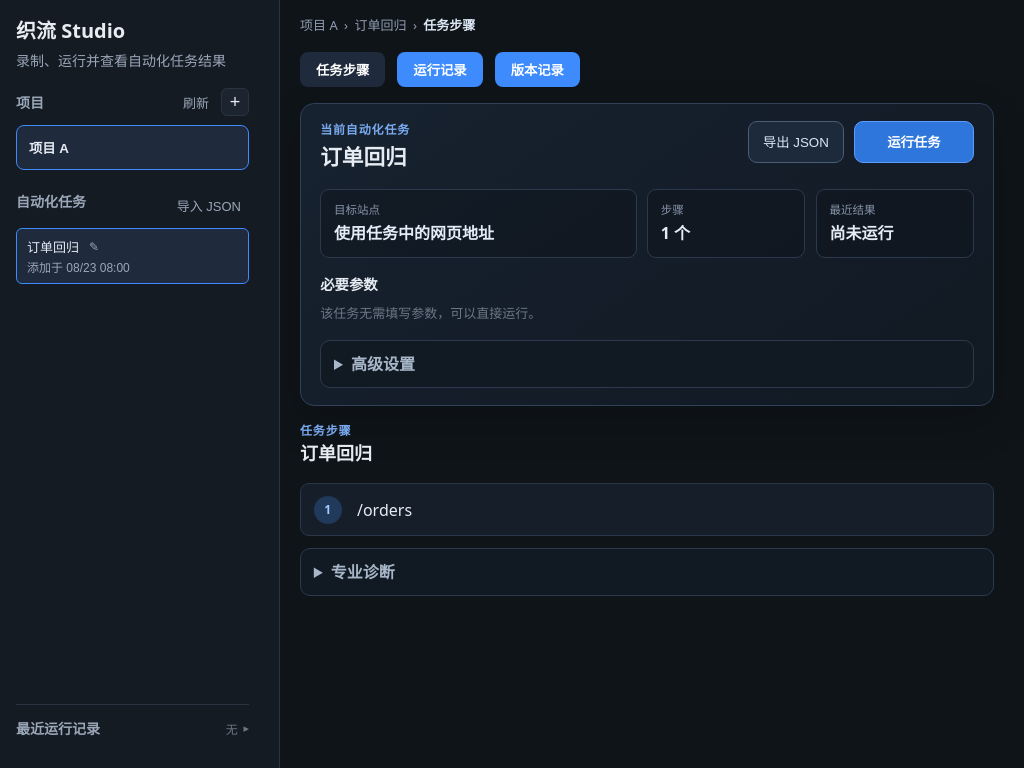
Scenario: App Flow 导入导出 › 导入成功后刷新列表、选中新副本并按真实 warning 数提醒补齐输入
Step 1. Click the button "导入 JSON" → x=209, y=205, box [169,190,249,220]
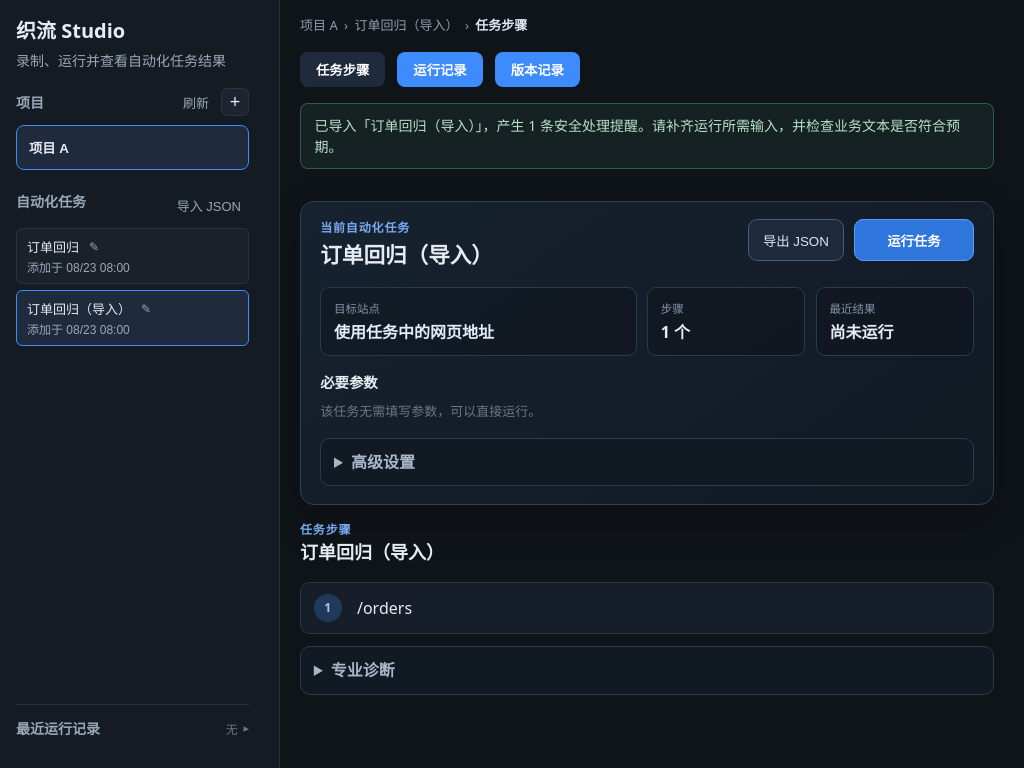
Expected: the text "订单回归（导入）" is shown, [27,299,131,318]
Expected: the button with class "flow-list-item" shows "订单回归（导入）", [16,290,249,346]
Expected: the text "1 条安全处理提醒" is shown, [315,116,960,156]
